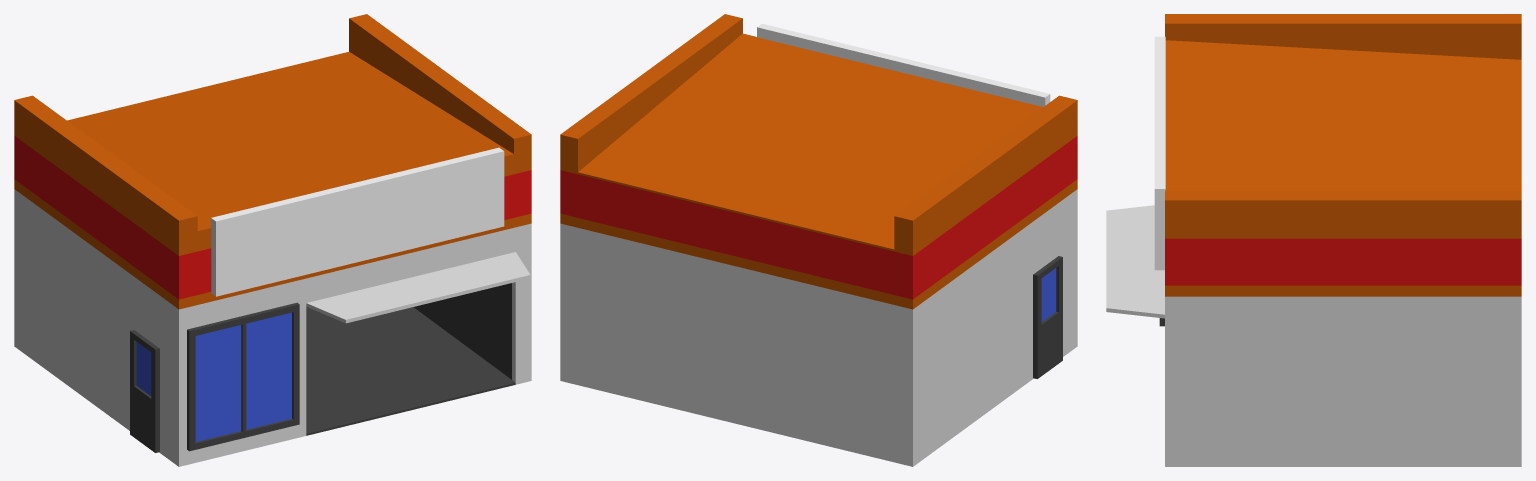
File: CarShopOld.fbx
The picture shows the model from 3 angles, left to right: view 1: azimuth 30°, elevation 25°; view 2: azimuth 150°, elevation 25°; view 3: azimuth 270°, elevation 25°; orthographic projection. The views are drawn at different scales.
Visible parts, largest first — view 1: AutoShop; view 2: AutoShop; view 3: AutoShop.
Boxes of the visible parts, x1,y1,x2,y2 form: AutoShop: (14, 14, 531, 466); AutoShop: (560, 14, 1077, 466); AutoShop: (1106, 14, 1521, 466).
Bounding box in the file's own units: 2825 × 1861 × 2629.
